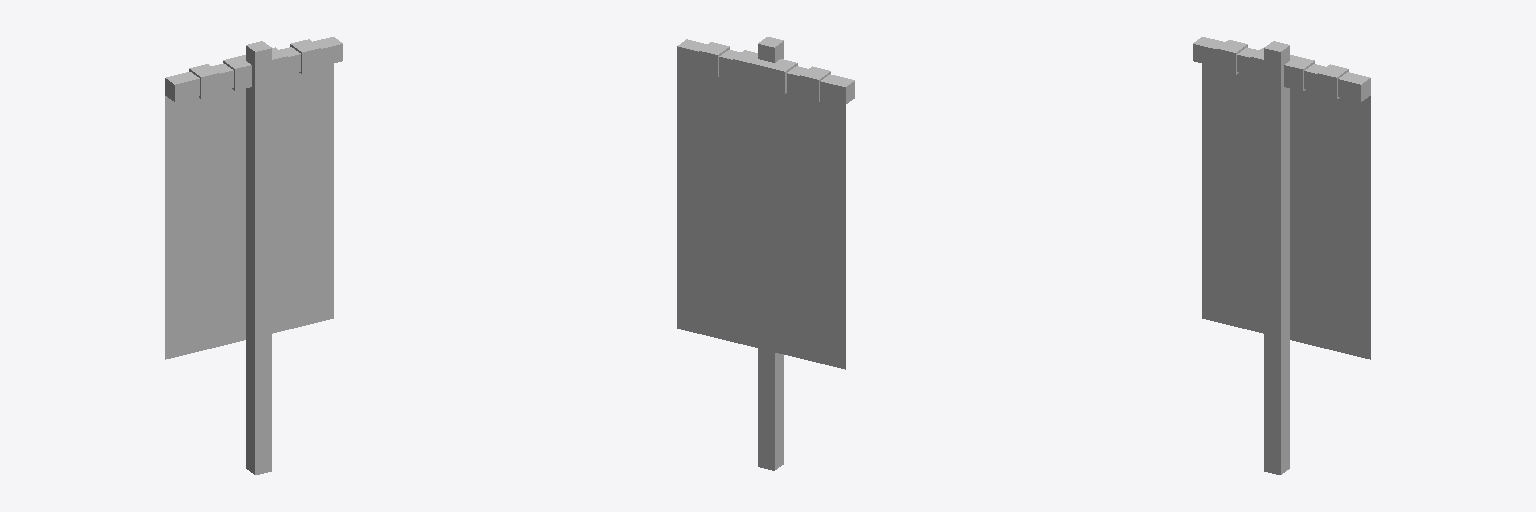
The model's file is eye_banner_2.obj.
3 renders of one model, left to right at view 1: azimuth 30°, elevation 25°; view 2: azimuth 150°, elevation 25°; view 3: azimuth 330°, elevation 25°, orthographic.
Parts seen in each view (by area): view 1: cube; view 2: cube; view 3: cube.
Boxes of the visible parts, box(x1,y1,x2,y2) form: cube: box(165, 37, 342, 474); cube: box(677, 37, 854, 470); cube: box(1193, 37, 1370, 474).
Bounding box in the file's own units: 1.25 × 3 × 0.2031.